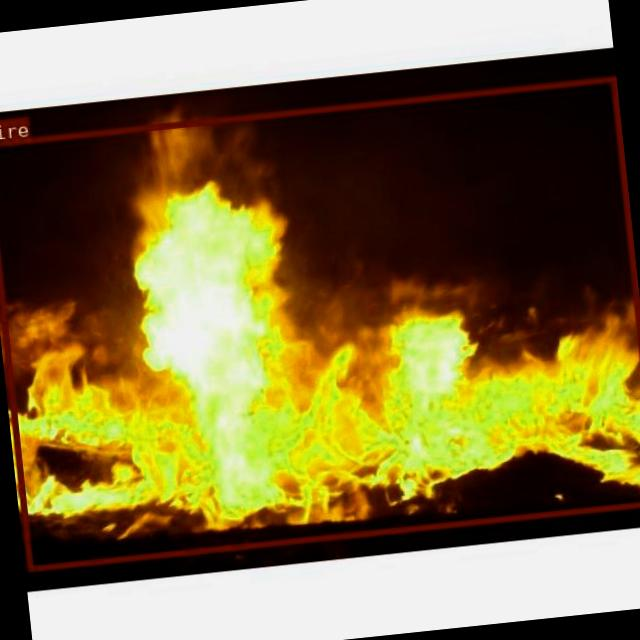fire: (0, 75, 640, 569)
